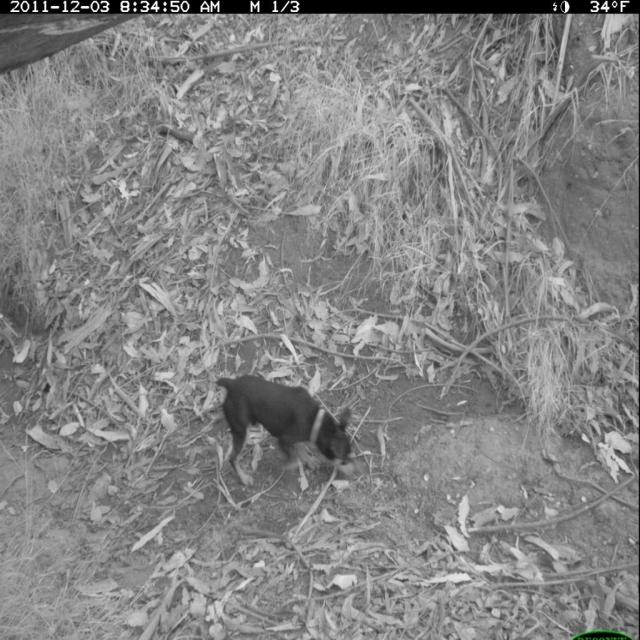dog: (210, 354, 358, 496)
